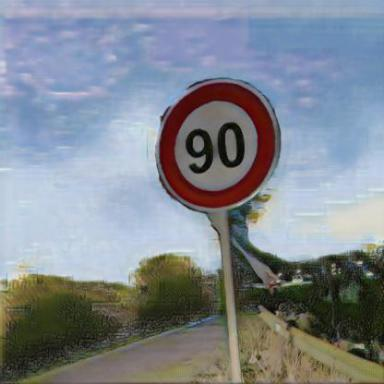Speed_limit_90: (159, 79, 291, 212)
